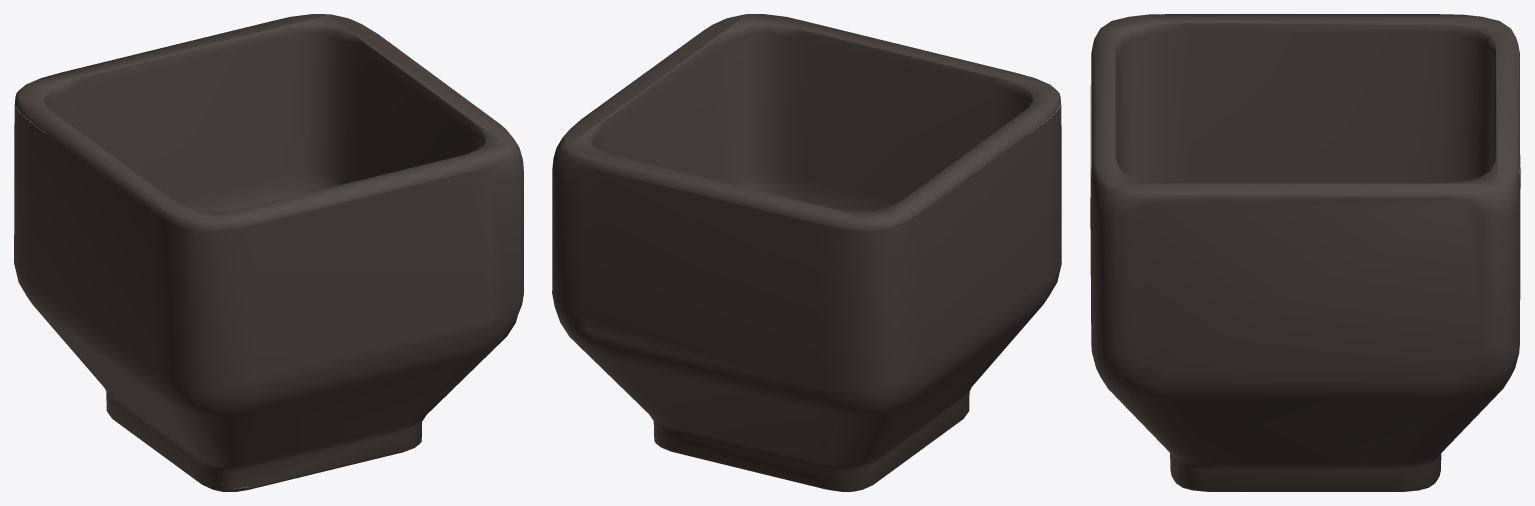
The model's file is mug_edited.gltf.
3 views of the same model, side by side, from view 1: azimuth 30°, elevation 25°; view 2: azimuth 150°, elevation 25°; view 3: azimuth 270°, elevation 25° (orthographic). The views are drawn at different scales.
Visible parts, largest first — view 1: Cube_Mug_0; view 2: Cube_Mug_0; view 3: Cube_Mug_0.
Boxes of the visible parts, bbox=[...] form: Cube_Mug_0: bbox=[14, 14, 523, 491]; Cube_Mug_0: bbox=[552, 14, 1061, 491]; Cube_Mug_0: bbox=[1090, 14, 1520, 491].
Bounding box in the file's own units: 318 × 273 × 317.
Materials: 1 (1 with a texture image).
